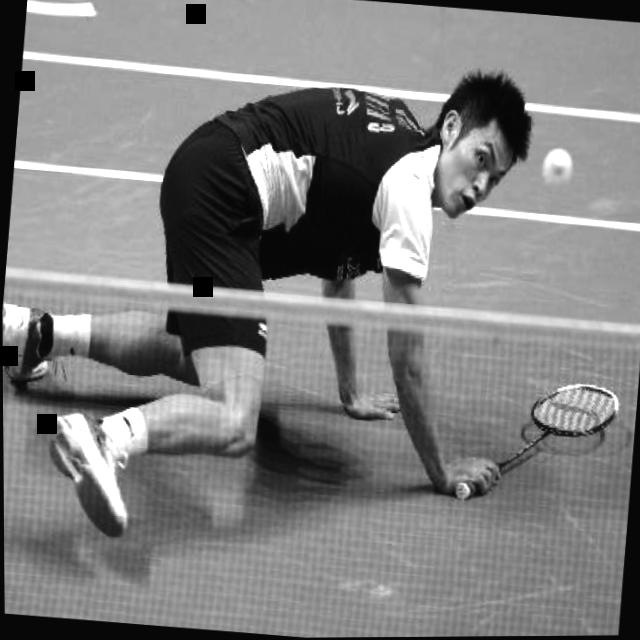Fall-Detected: (0, 2, 557, 566)
